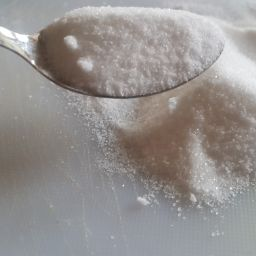Sugar: (20, 2, 256, 238), (60, 92, 256, 230), (35, 4, 229, 100), (150, 117, 256, 225)
